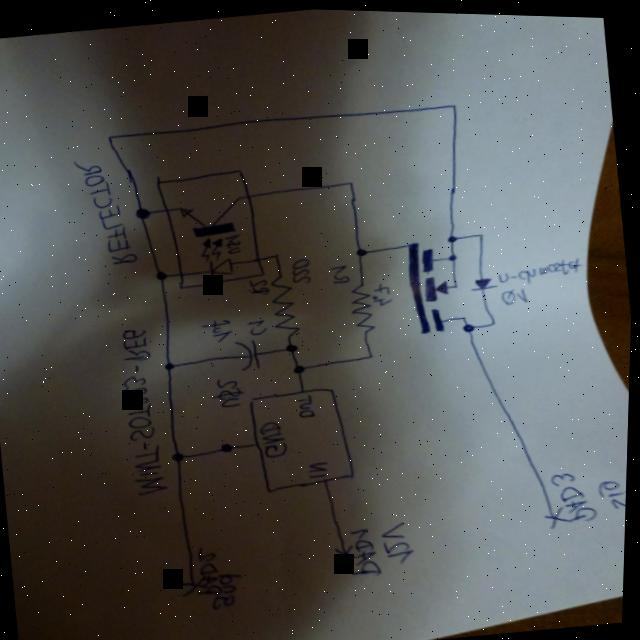capacitor: (234, 333, 267, 371)
diode: (471, 271, 501, 289)
junction: (136, 204, 155, 219), (293, 360, 312, 374), (446, 227, 463, 242), (285, 339, 303, 352), (173, 449, 190, 462), (157, 268, 172, 280), (356, 243, 371, 255), (165, 359, 180, 370), (462, 319, 478, 329), (367, 348, 380, 358), (449, 98, 461, 108), (107, 132, 117, 140), (349, 177, 359, 184), (492, 316, 501, 323), (275, 250, 283, 257), (480, 228, 488, 235)
resistor: (269, 278, 307, 338), (348, 278, 382, 336)
terminal: (181, 570, 212, 597), (547, 500, 574, 526), (336, 540, 363, 564)
text: (110, 324, 169, 502), (69, 151, 143, 269), (550, 464, 604, 525), (498, 249, 587, 285), (349, 521, 388, 575), (380, 518, 420, 565), (198, 540, 229, 596), (211, 568, 251, 611), (210, 373, 249, 410), (261, 418, 292, 458), (202, 313, 238, 343), (599, 471, 629, 507), (291, 255, 317, 284), (503, 281, 535, 304), (373, 279, 398, 304), (330, 260, 355, 284), (297, 394, 321, 418), (248, 274, 273, 296), (309, 456, 333, 478), (248, 314, 272, 336), (225, 230, 247, 254)
transistor: (402, 231, 477, 335)
